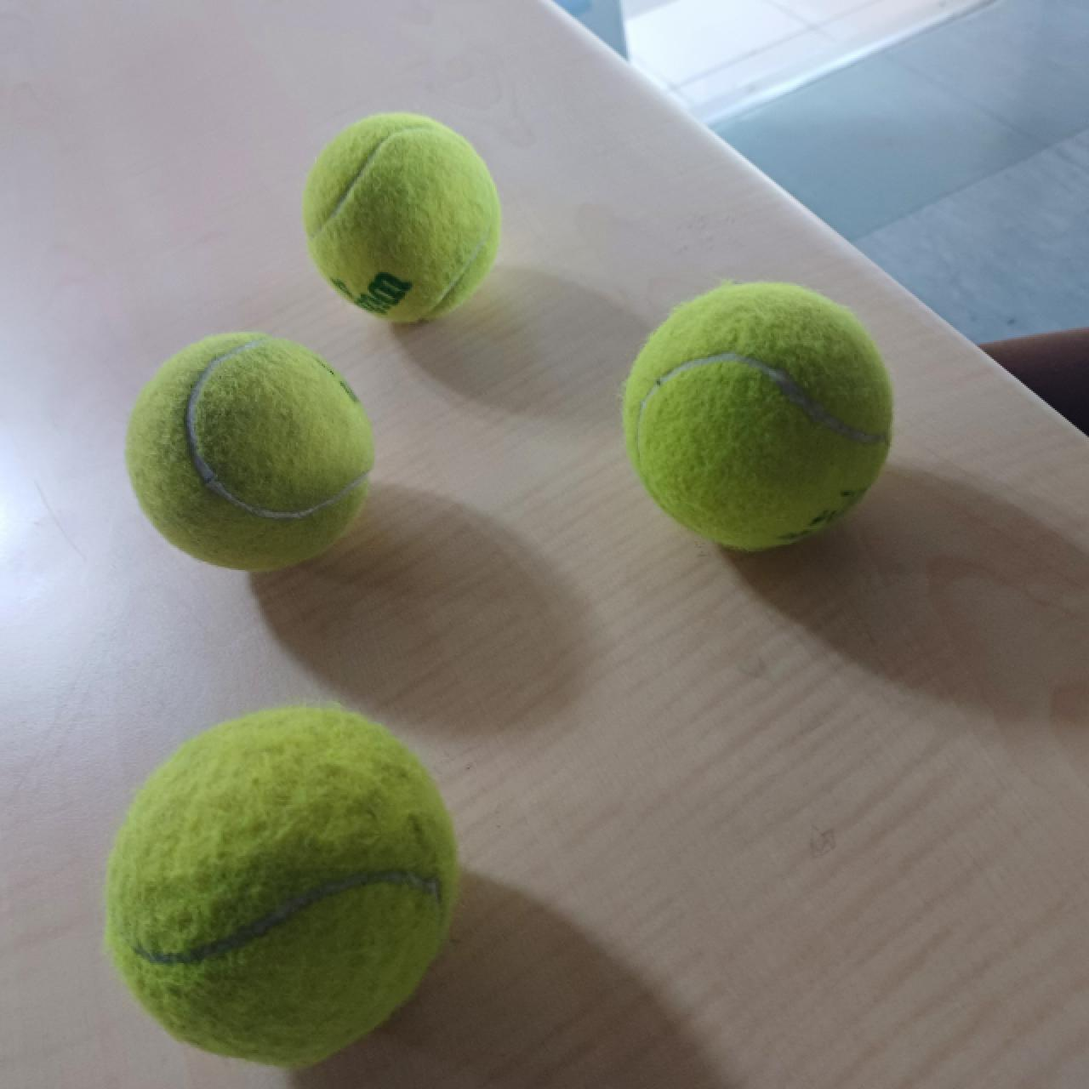tennis-ball: (104, 707, 459, 1066), (620, 277, 900, 555), (125, 328, 374, 574), (302, 107, 504, 331)
